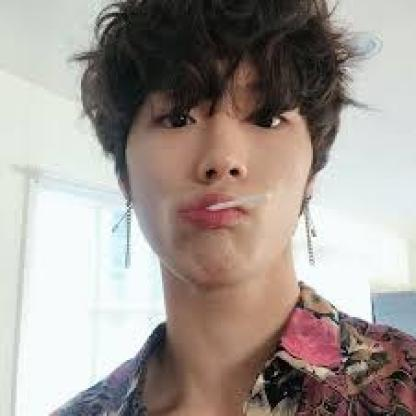person: (78, 9, 361, 288)
